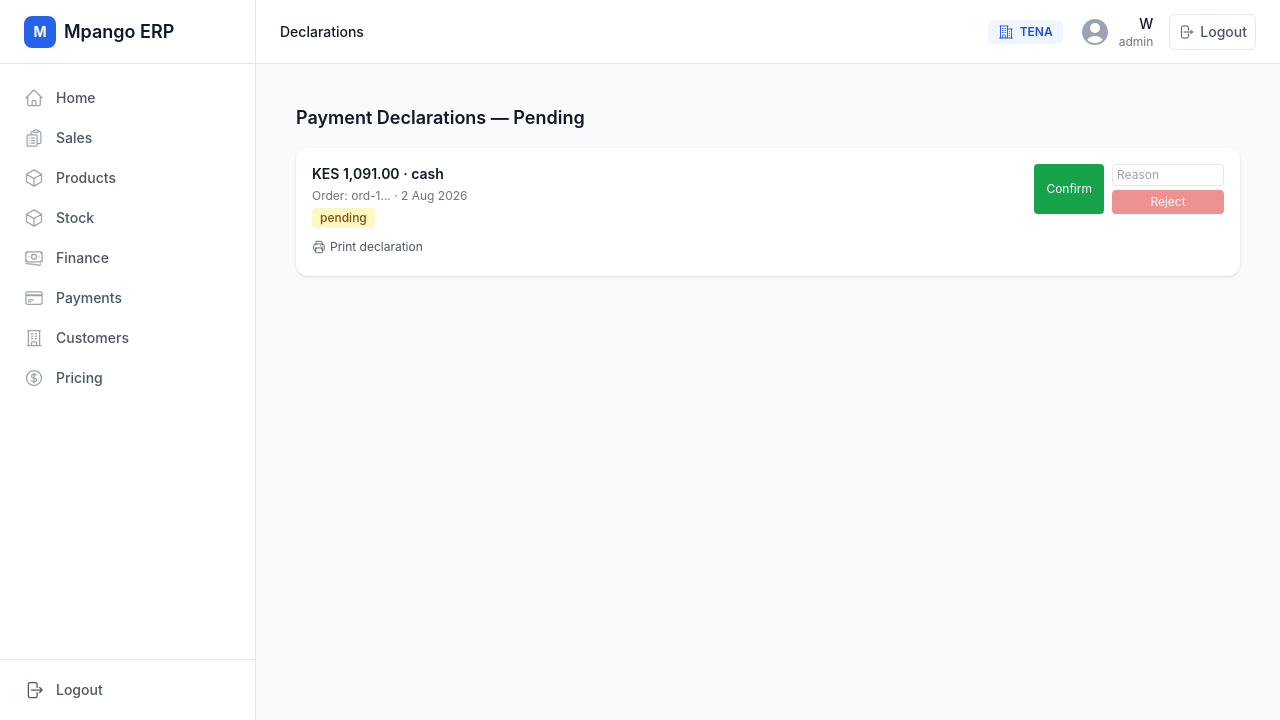
Test: R3 Correction 1 — genuine link-follow to ReceiptPrintPage (Contract C only) › follows the rendered receipt Link through React Router to the real ReceiptPrintPage
Note: Click the real Confirm button.
Click the button "Confirm". click: (1069, 189)
box: [1034,164,1104,214]
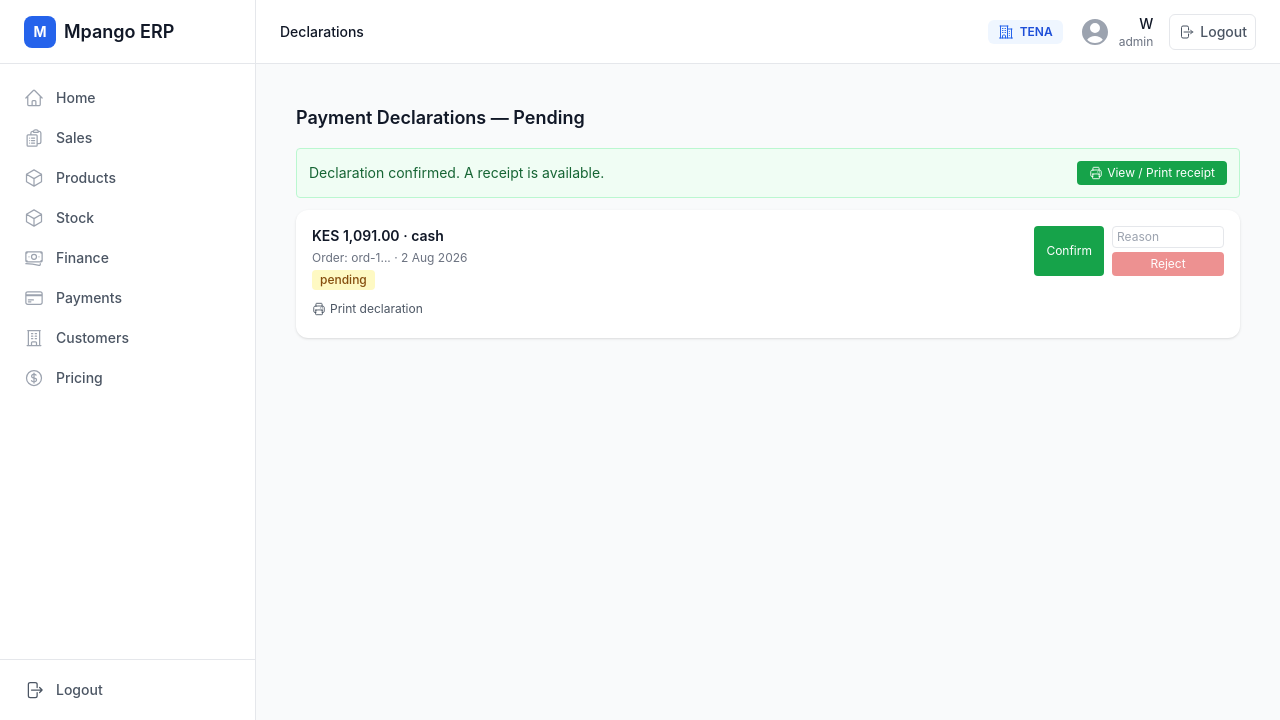
Click the link with test id "confirmed-receipt-link". click: (1152, 173)
box: [1077,161,1227,185]
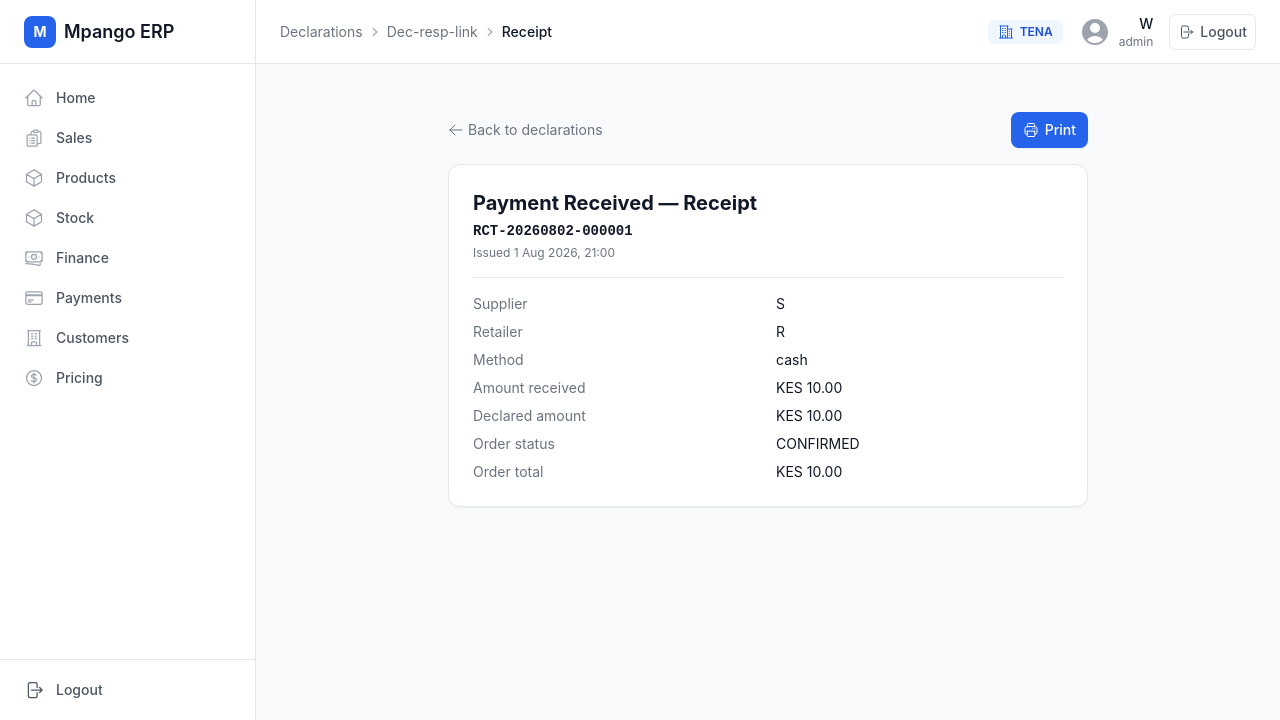
Check: the element with test id "receipt-print-document" is shown, box [448,164,1088,507]
